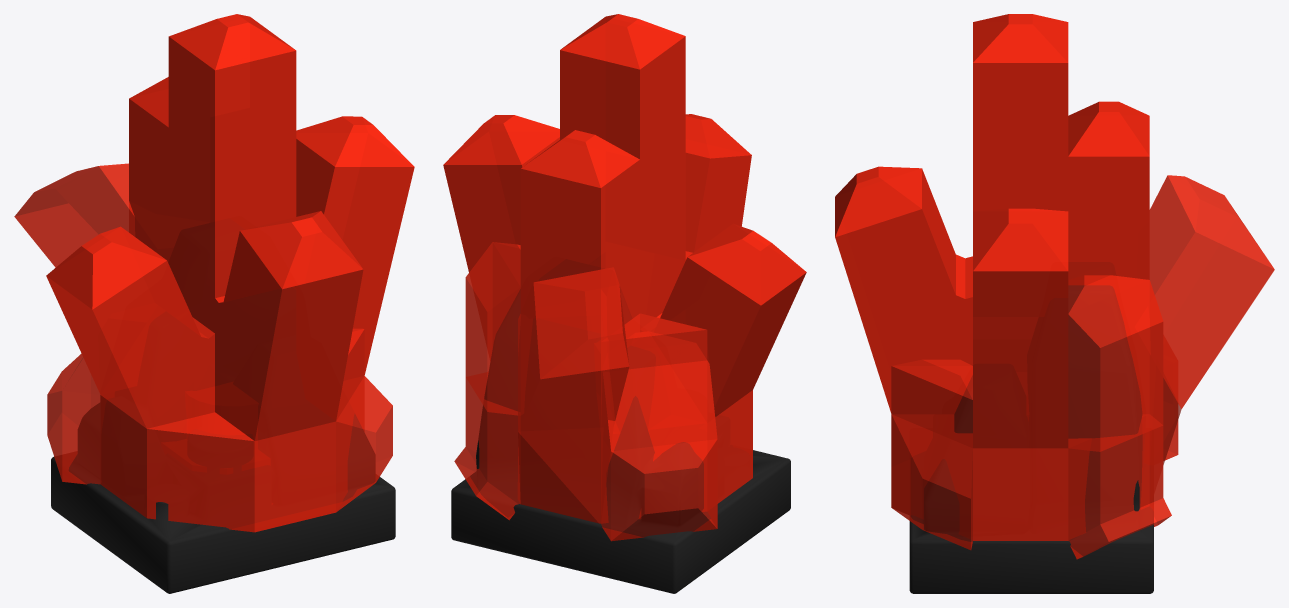
File: volcano_rock.glb
The picture shows the model from 3 angles, left to right: view 1: azimuth 30°, elevation 25°; view 2: azimuth 150°, elevation 25°; view 3: azimuth 270°, elevation 25°; orthographic projection. The views are drawn at different scales.
Parts seen in each view (by area): view 1: volcano_rock_InstanceColor, volcano_rock; view 2: volcano_rock_InstanceColor, volcano_rock; view 3: volcano_rock_InstanceColor, volcano_rock.
Boxes of the visible parts, x1,y1,x2,y2 form: volcano_rock_InstanceColor: (14,14,414,532); volcano_rock: (51,402,395,593); volcano_rock_InstanceColor: (443,14,806,541); volcano_rock: (451,289,790,593); volcano_rock_InstanceColor: (835,14,1274,559); volcano_rock: (909,285,1153,593).
Size of the model in its own units: 0.1256 by 0.1889 by 0.1445.
